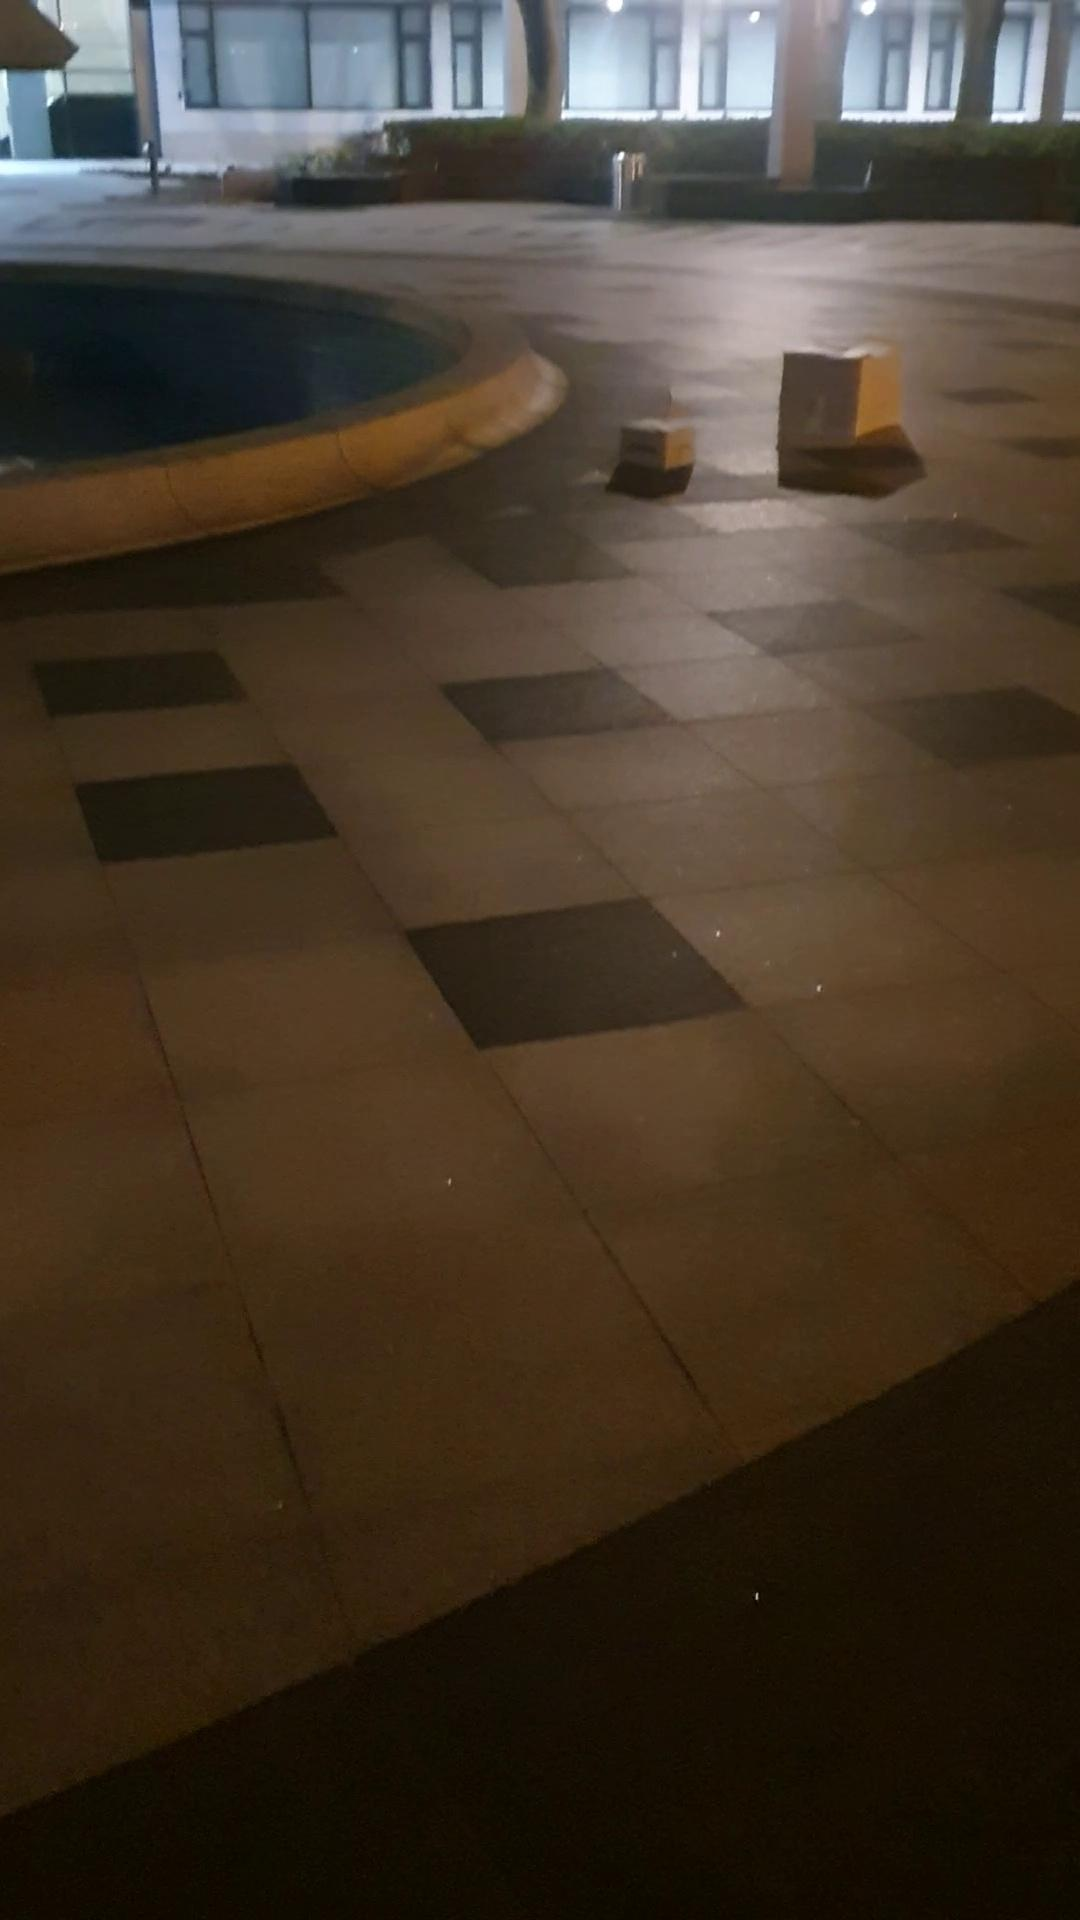Box: (781, 340, 905, 462), (591, 405, 715, 483)
